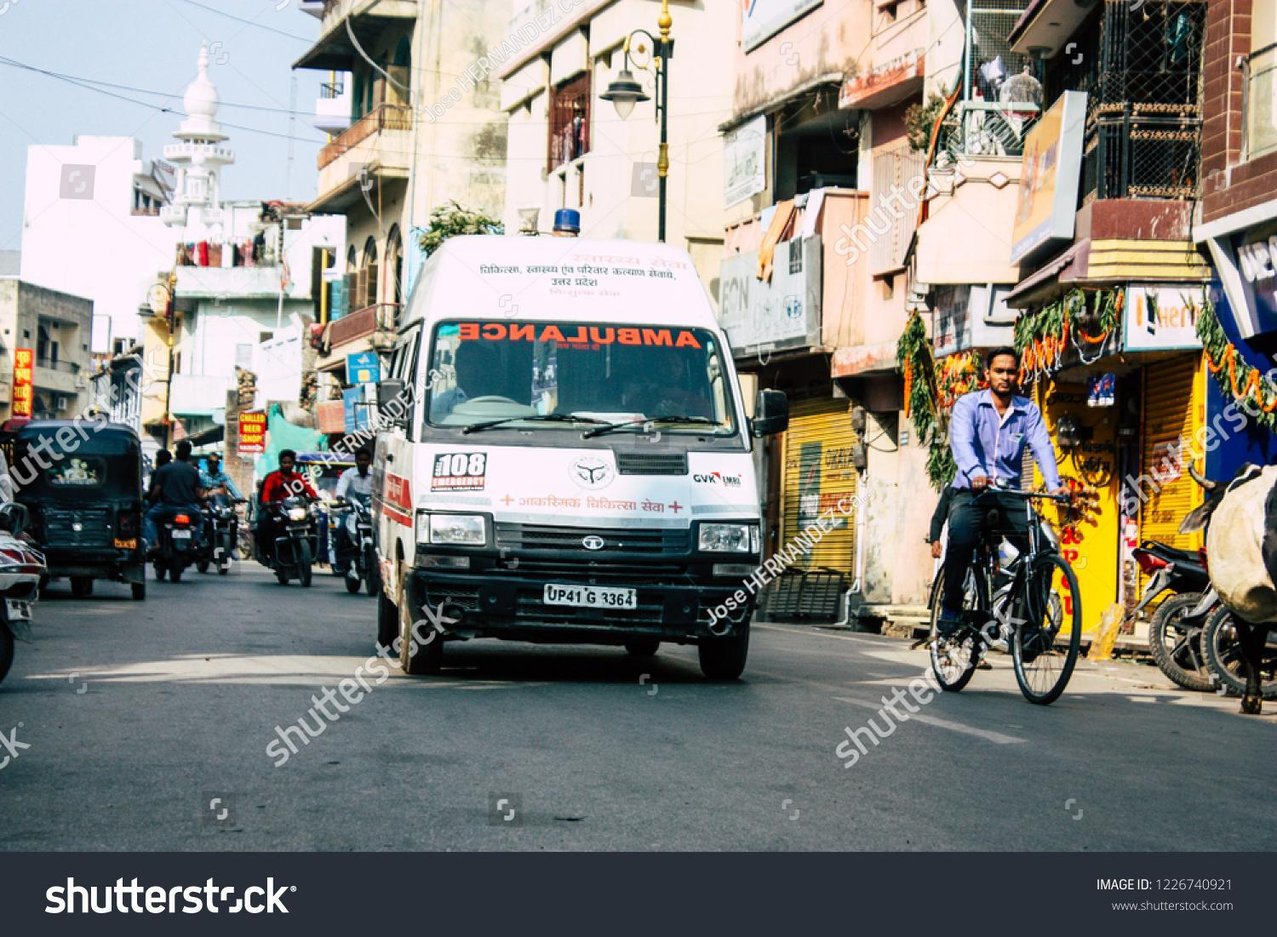Ambulance: (447, 316, 707, 351)
